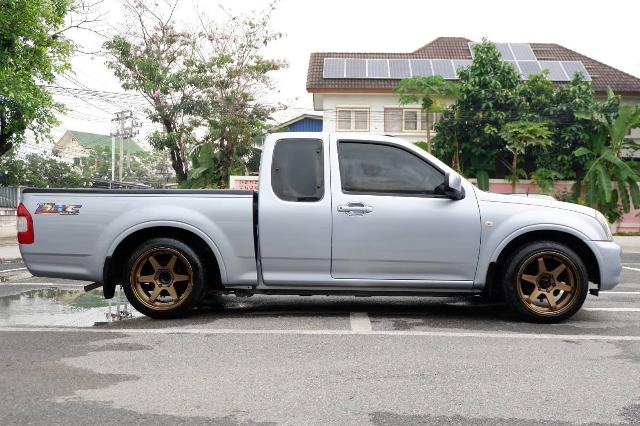pickup-truck: (6, 88, 636, 366)
